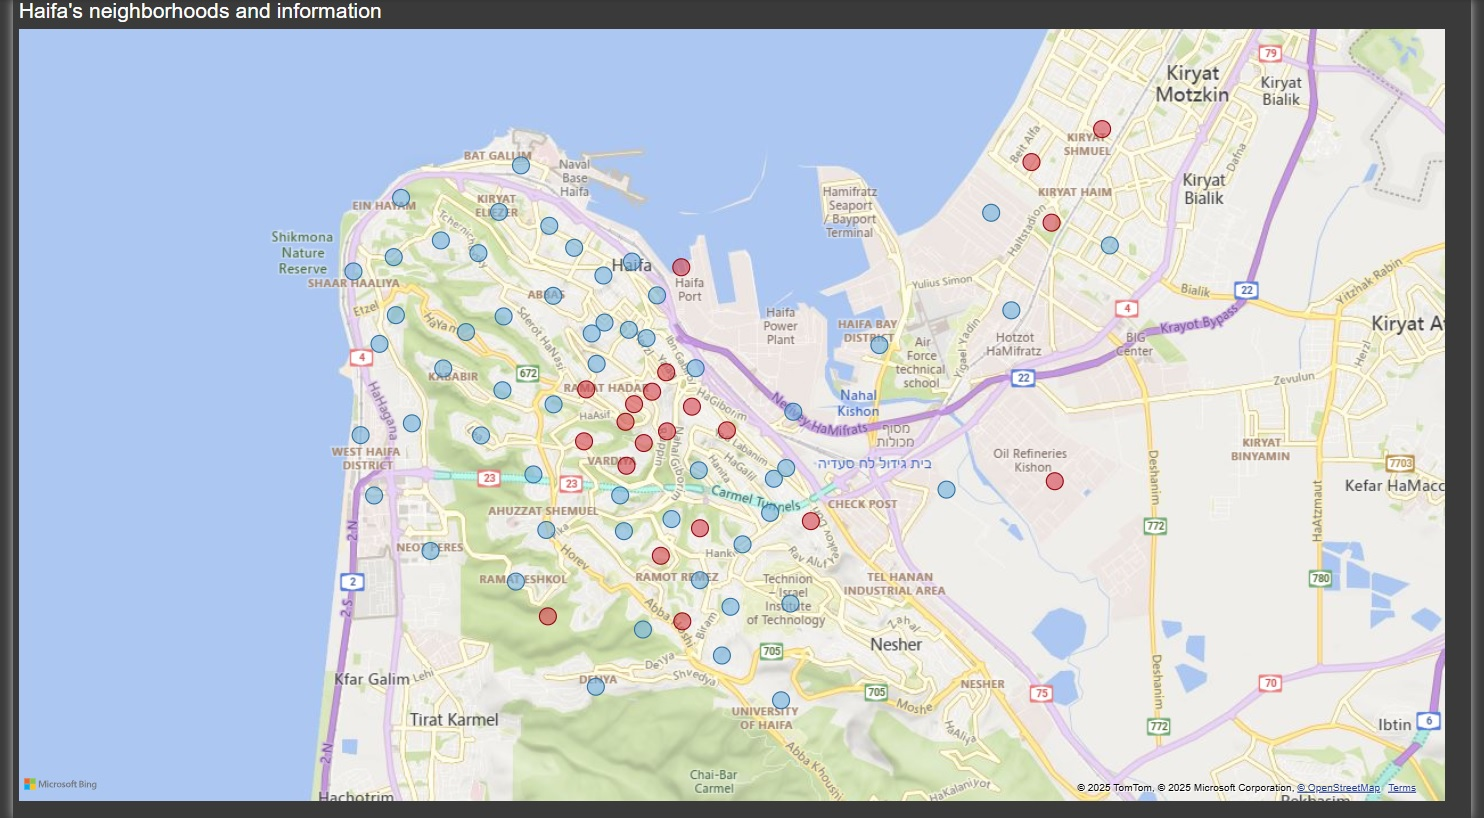

Layout of this report page (visuals, bound fields, positions):
{"tool":"powerbi","page":{"name":"Map","canvas":[1280,720],"ordinal":1},"visuals":[{"type":"map","title":"Haifa''s neighborhoods and information","fields":{"Y":["Haifa_dataset_to_BI.latitude_neighborhood"],"X":["Haifa_dataset_to_BI.longitude_neighborhood"]},"box":[0,0,1262,709],"z":0}]}

Visuals, with their boxes in screenshot pixels (x1, y1, x2, y2), scaled from the page's 1280x720 canvas onto the 1484x818 screenshot:
"Haifa''s neighborhoods and information" map: region(0, 0, 1463, 806)
